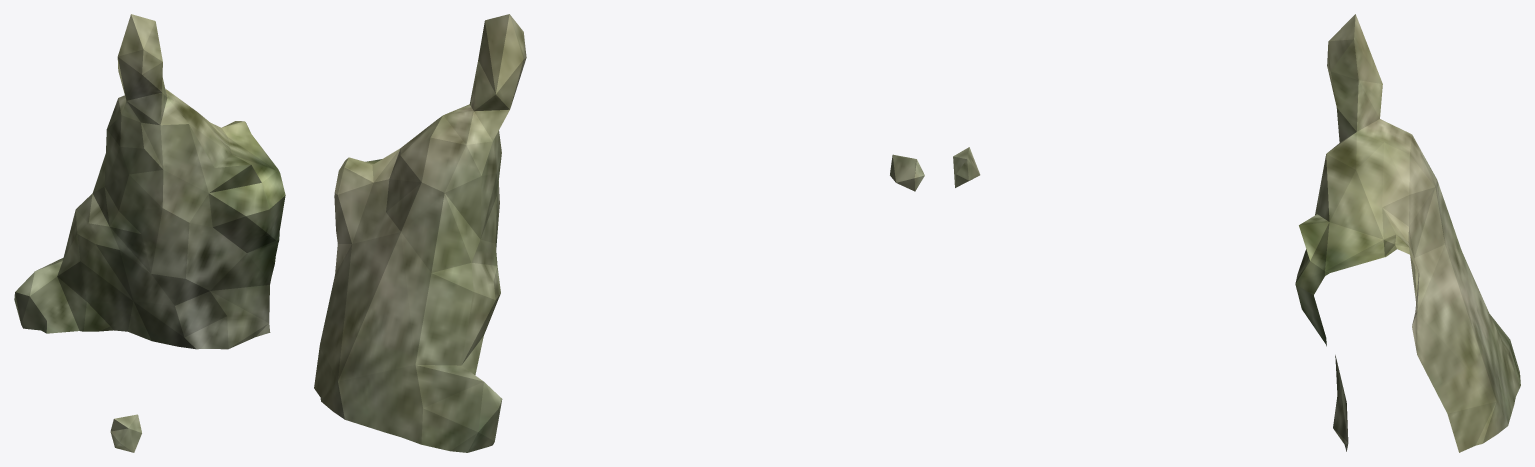
3 views of the same model, side by side, from view 1: azimuth 30°, elevation 25°; view 2: azimuth 150°, elevation 25°; view 3: azimuth 270°, elevation 25° (orthographic). The views are drawn at different scales.
Bounding box in the file's own units: 2.33 × 2.31 × 3.22.
1 material, 1 textured.
